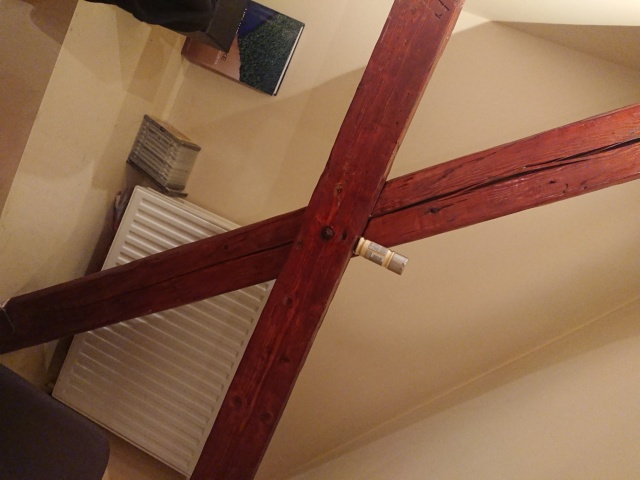Kotanyi Garlic Granules 70g: (350, 234, 410, 277)
